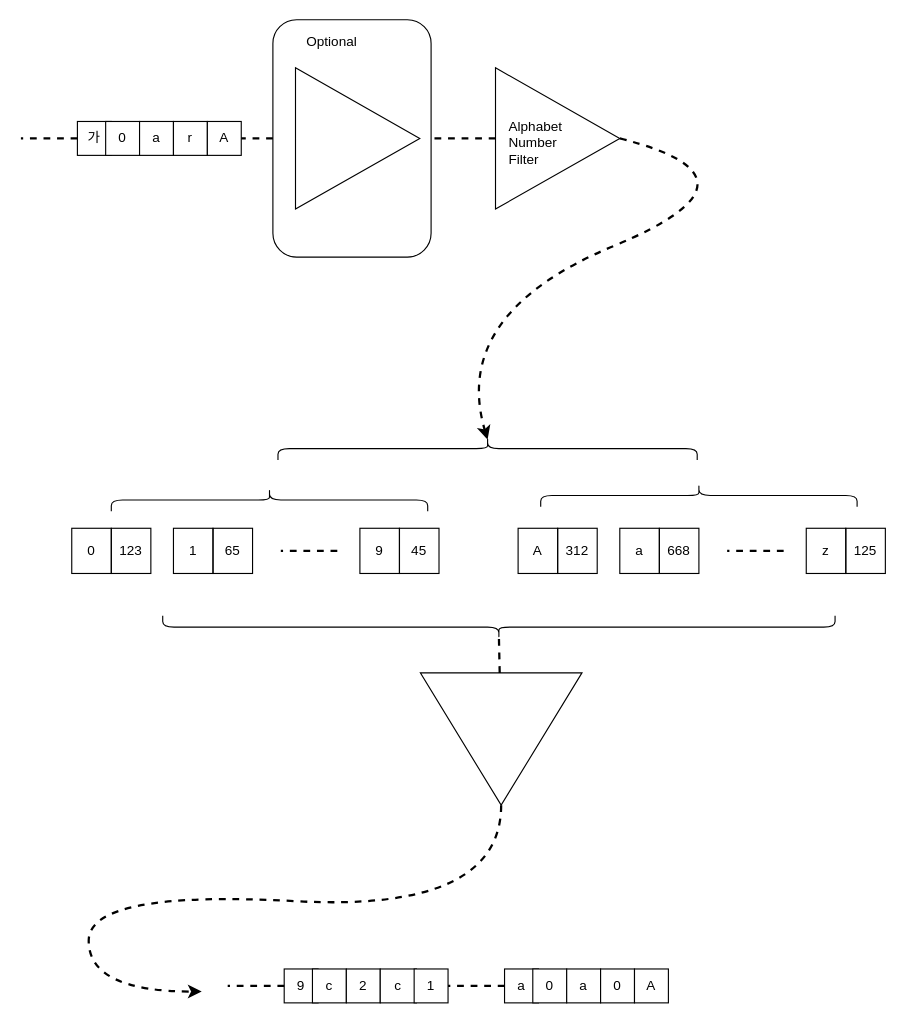
Some shapes in this 905 by 1023 pixel diagram are drawn without their labels. The shapes that lost their labels are listed below. From the top down, each one's box as (x1, y1, x2, y2) in pixels, then its label:
(294, 67, 420, 209): HTML tag Filter
(110, 488, 428, 511): Number
(540, 483, 857, 507): Alphabet
